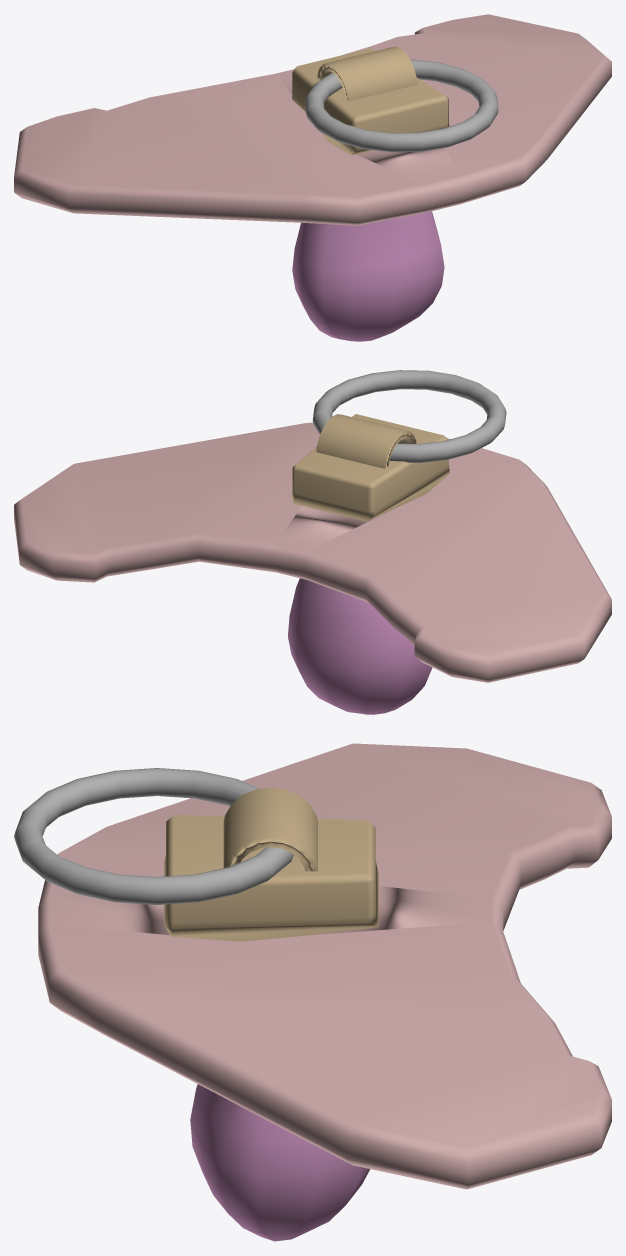
File: Pacifier.fbx
3 views of the same model, one above another, from view 1: azimuth 30°, elevation 25°; view 2: azimuth 150°, elevation 25°; view 3: azimuth 270°, elevation 25° (orthographic). The views are drawn at different scales.
Visible parts, largest first — view 1: Pacifier, Pacifier_Sucker, Pacifier_Ring, Pacifier_Hoop; view 2: Pacifier, Pacifier_Sucker, Pacifier_Ring, Pacifier_Hoop; view 3: Pacifier, Pacifier_Sucker, Pacifier_Ring, Pacifier_Hoop.
Boxes of the visible parts, left/top/right/bottom form: Pacifier: left=14, top=14, right=611, bottom=225; Pacifier_Sucker: left=292, top=211, right=444, bottom=341; Pacifier_Ring: left=304, top=59, right=498, bottom=152; Pacifier_Hoop: left=317, top=46, right=417, bottom=101; Pacifier: left=14, top=414, right=611, bottom=682; Pacifier_Sucker: left=288, top=578, right=432, bottom=714; Pacifier_Ring: left=312, top=370, right=506, bottom=462; Pacifier_Hoop: left=316, top=414, right=416, bottom=468; Pacifier: left=38, top=743, right=611, bottom=1189; Pacifier_Sucker: left=190, top=1084, right=370, bottom=1241; Pacifier_Ring: left=14, top=768, right=293, bottom=904; Pacifier_Hoop: left=223, top=787, right=317, bottom=871.
Size of the model in its own units: 6.88 by 3.27 by 4.25.
